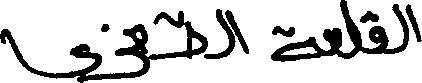X: (0, 24, 99, 82), (272, 21, 319, 66), (117, 19, 144, 82), (343, 0, 360, 63), (325, 0, 341, 61), (215, 4, 231, 63), (187, 16, 204, 63), (370, 6, 385, 58), (395, 0, 407, 57), (233, 11, 245, 57), (409, 0, 421, 46)
